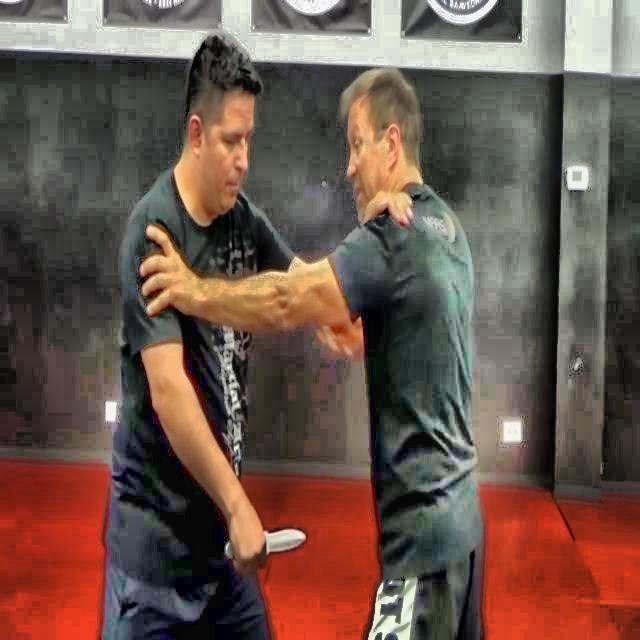knife: (225, 529, 308, 558)
